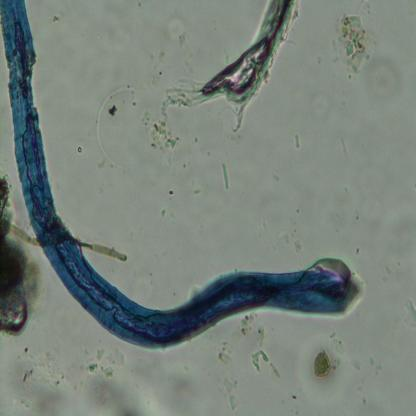Background material: (0, 178, 46, 350), (6, 347, 70, 414), (134, 347, 193, 414), (92, 80, 136, 168), (142, 88, 190, 159), (334, 4, 376, 78), (379, 203, 416, 282), (303, 334, 342, 387), (80, 347, 126, 384), (77, 232, 131, 262), (372, 58, 401, 101), (249, 346, 280, 381), (240, 312, 267, 345), (221, 374, 240, 412), (168, 17, 186, 47), (405, 290, 416, 331), (44, 4, 61, 29), (286, 230, 305, 250), (291, 126, 306, 151), (220, 161, 230, 192), (72, 142, 84, 153)
Cellulose filter fibre: (194, 0, 295, 121)
Cotton: (0, 0, 361, 350)
